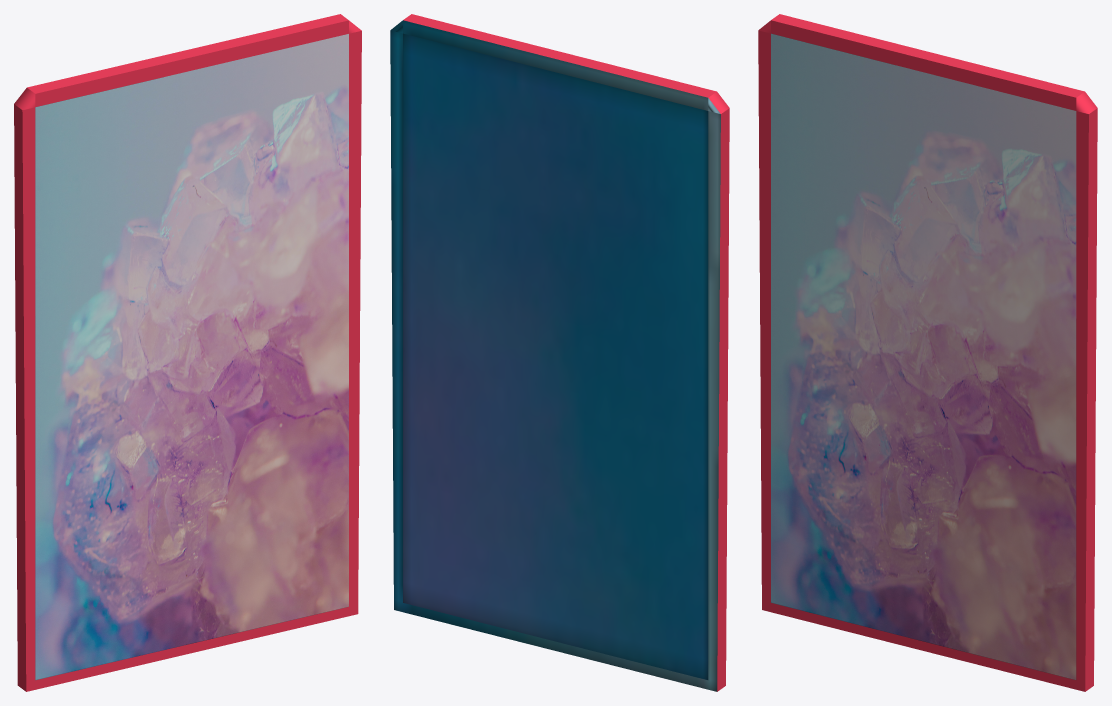
The model's file is p_tablo.obj.
The picture shows the model from 3 angles, left to right: view 1: azimuth 30°, elevation 25°; view 2: azimuth 150°, elevation 25°; view 3: azimuth 330°, elevation 25°; orthographic projection.
Parts seen in each view (by area): view 1: Plane.014_tablo_pembe, Plane.014_m_koyupembe; view 2: Plane.014_tablo_pembe, Plane.014_m_koyupembe; view 3: Plane.014_tablo_pembe, Plane.014_m_koyupembe.
Boxes of the visible parts, x1,y1,x2,y2 form: Plane.014_tablo_pembe: (35, 34, 348, 680); Plane.014_m_koyupembe: (14, 14, 361, 691); Plane.014_tablo_pembe: (390, 20, 720, 691); Plane.014_m_koyupembe: (403, 14, 729, 691); Plane.014_tablo_pembe: (771, 33, 1076, 679); Plane.014_m_koyupembe: (758, 14, 1097, 691).
Size of the model in its own units: 10.25 by 17.36 by 0.6305.
